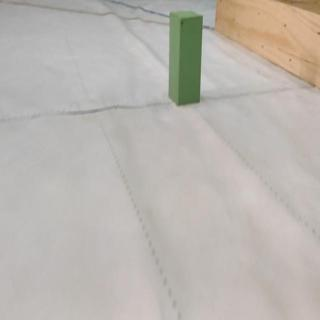greenbox: (169, 9, 204, 107)
